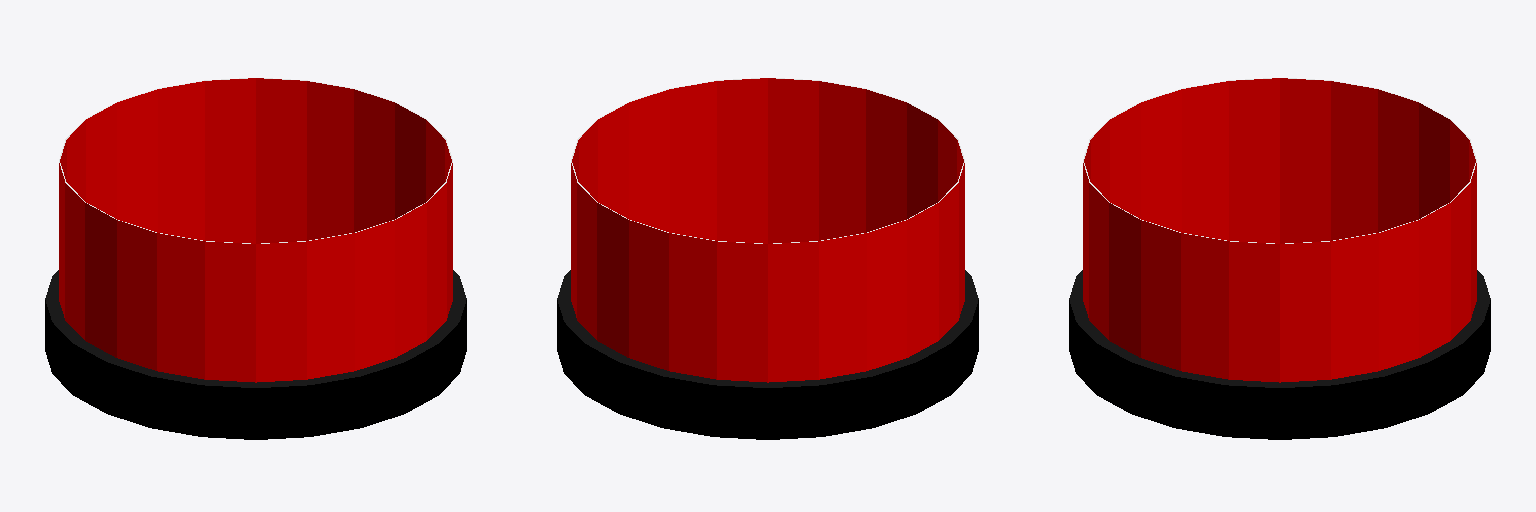
Rendered from comedero.obj.
3 views of the same model, side by side, from view 1: azimuth 30°, elevation 25°; view 2: azimuth 150°, elevation 25°; view 3: azimuth 270°, elevation 25° (orthographic).
Visible parts, largest first — view 1: Mesh1 Model; view 2: Mesh1 Model; view 3: Mesh1 Model.
Boxes of the visible parts, x1,y1,x2,y2 form: Mesh1 Model: [45, 78, 466, 439]; Mesh1 Model: [557, 78, 978, 439]; Mesh1 Model: [1069, 78, 1490, 439].
Size of the model in its own units: 4 by 1.99 by 4.